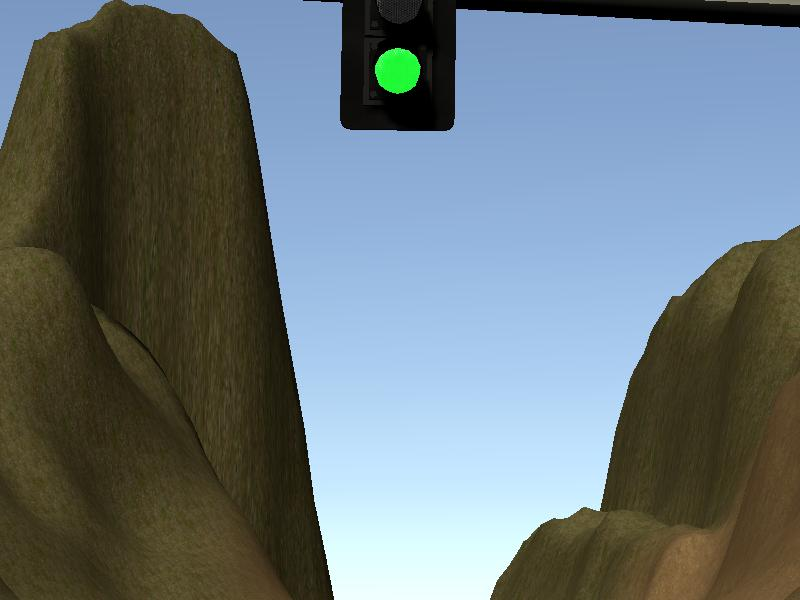Green: (336, 1, 456, 130)
